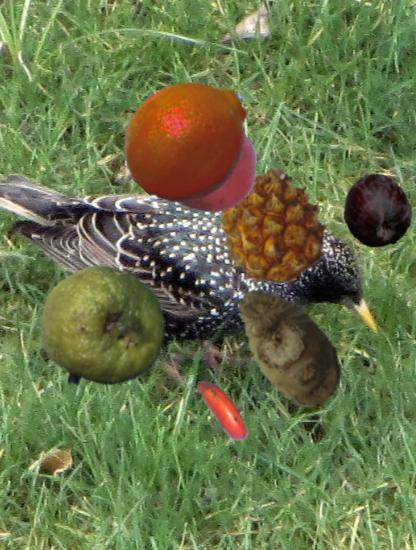Banana: (189, 371, 264, 446)
Ginger: (219, 278, 356, 415)
Limes: (37, 264, 166, 393)
Pineapple: (212, 167, 331, 286)
Plum: (339, 173, 414, 248)
Pomegranate: (161, 117, 261, 217)
Tangelo: (122, 73, 256, 207)
